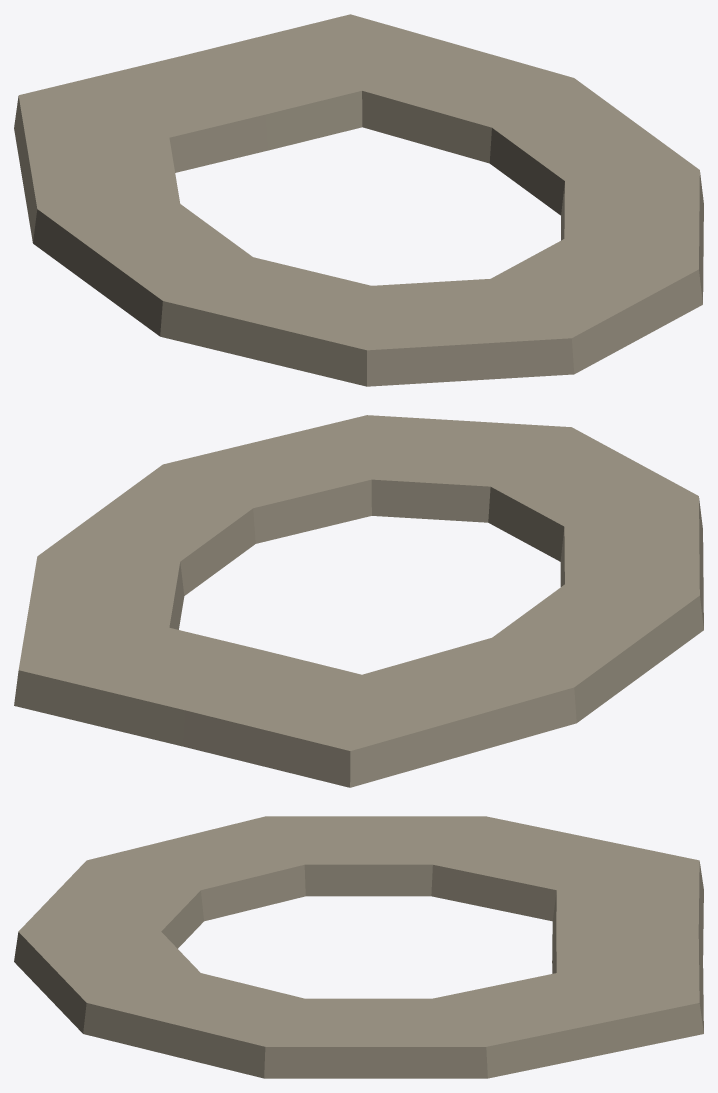
The model's file is SM_Prop_Toilet_01_Seat.glb.
3 renders of one model, top to bottom at view 1: azimuth 30°, elevation 25°; view 2: azimuth 150°, elevation 25°; view 3: azimuth 270°, elevation 25°, orthographic. The views are drawn at different scales.
Parts seen in each view (by area): view 1: SM_Prop_Toilet_01_Seat; view 2: SM_Prop_Toilet_01_Seat; view 3: SM_Prop_Toilet_01_Seat.
Part boxes in pixels (x1,y1,x2,y2): SM_Prop_Toilet_01_Seat: (14, 14, 703, 386); SM_Prop_Toilet_01_Seat: (14, 415, 703, 787); SM_Prop_Toilet_01_Seat: (14, 816, 703, 1078).
Bounding box in the file's own units: 0.4361 × 0.0264 × 0.5448.
Materials: 1 (1 with a texture image).
